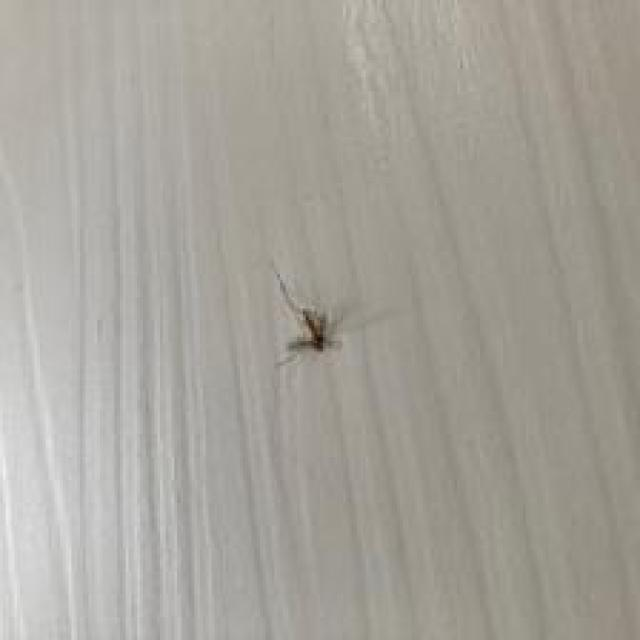Culex: (270, 260, 344, 369)
